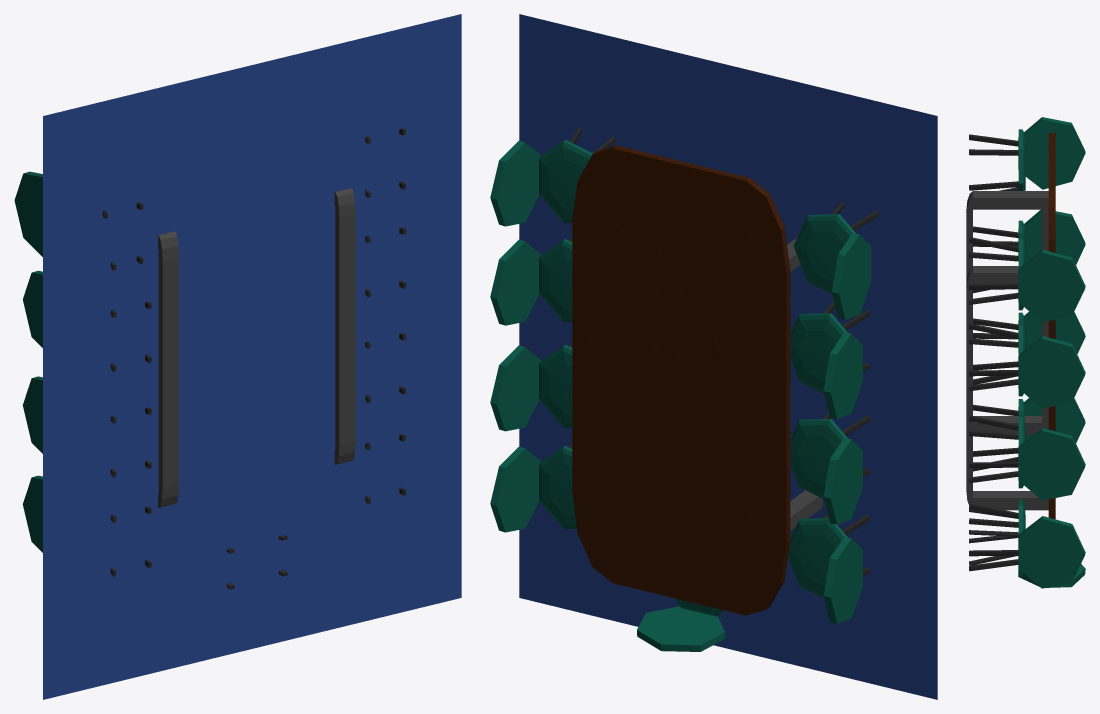
The model's file is MeetingRoom_MeetingTable.fbx.
The picture shows the model from 3 angles, left to right: view 1: azimuth 30°, elevation 25°; view 2: azimuth 150°, elevation 25°; view 3: azimuth 270°, elevation 25°; orthographic projection. The views are drawn at different scales.
Parts seen in each view (by area): view 1: Plane, meetingdesk; view 2: meetingdesk, Plane; view 3: meetingdesk.
Part boxes in pixels (left/top/right/bottom): Plane: left=43, top=14, right=461, bottom=699; meetingdesk: left=14, top=128, right=406, bottom=589; meetingdesk: left=490, top=128, right=878, bottom=651; Plane: left=519, top=14, right=937, bottom=699; meetingdesk: left=966, top=117, right=1085, bottom=588.
Bounding box in the file's own units: 6 × 8 × 1.7.
